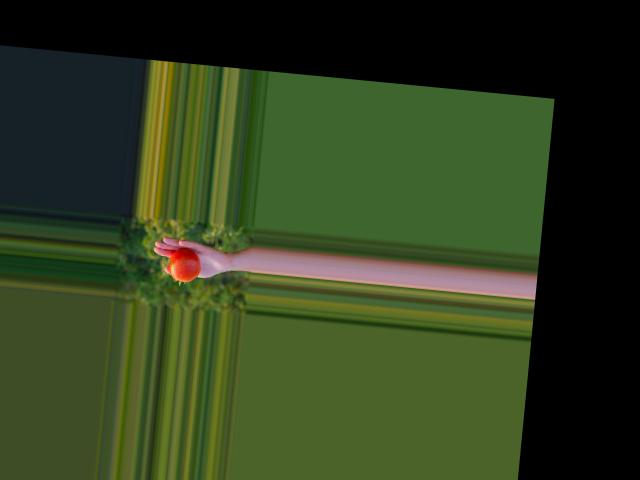tomato: (168, 245, 201, 282)
